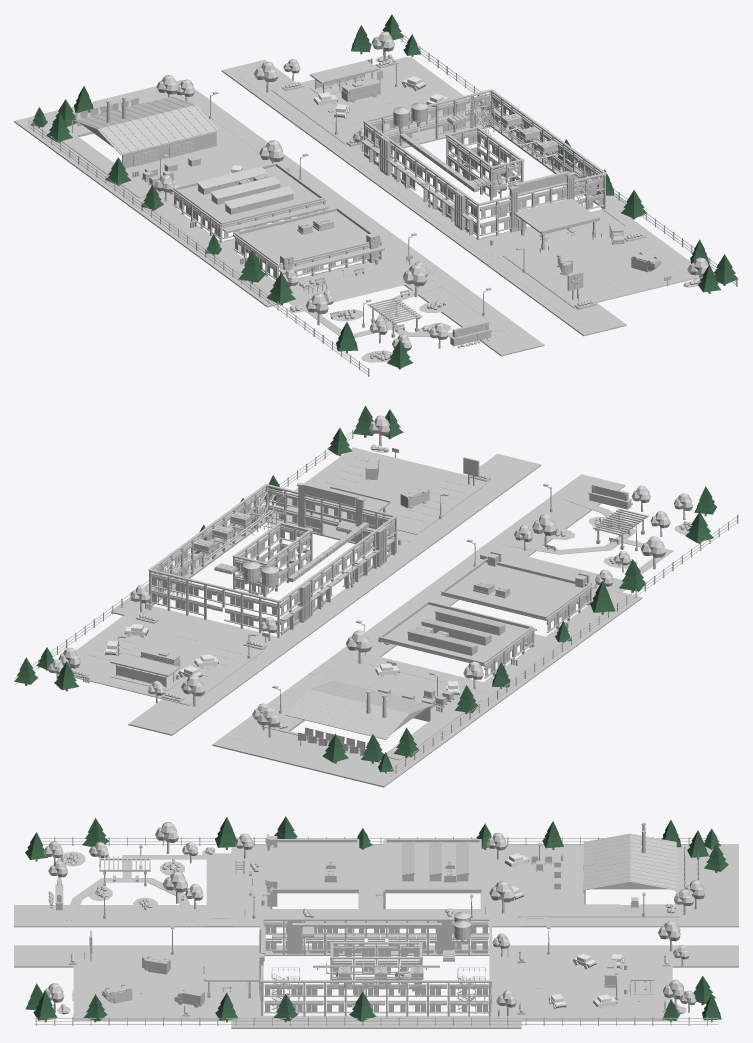
Rendered from Hospital Campus.fbx.
The picture shows the model from 3 angles, top to bottom: view 1: azimuth 30°, elevation 25°; view 2: azimuth 150°, elevation 25°; view 3: azimuth 270°, elevation 25°; orthographic projection.
Parts seen in each view (by area): view 1: Campus asphalt_1_1_solid, Campus asphalt_1_8_solid, Laundry sheet roof_-2_8_solid, Roof membrane_-2_4_solid, Campus asphalt_-2_7_solid, West campus signs_-2_5_solid, Ward facade_1_5_solid, Roof membrane_-2_5_solid, Campus sidewalks_0_5_solid, Emergency canopy_1_3_solid, Campus sidewalks_-1_5_solid, Campus sidewalks_-3_5_solid (+46 smaller); view 2: Campus asphalt_1_8_solid, Campus asphalt_1_1_solid, Laundry sheet roof_-2_8_solid, Roof membrane_-2_4_solid, Roof membrane_-2_5_solid, Ward facade_1_6_solid, Campus sidewalks_-1_5_solid, Campus sidewalks_0_5_solid, Cut district turf_-3_9_solid, West campus signs_-2_5_solid, Ward facade_1_5_solid, Cut district turf_-2_9_solid (+41 smaller); view 3: Campus asphalt_1_8_solid, Campus asphalt_1_1_solid, Laundry sheet roof_-2_8_solid, Roof membrane_-2_4_solid, Roof membrane_-2_5_solid, Campus sidewalks_-1_5_solid, Campus asphalt_-2_7_solid, Ward facade_2_4_solid, Campus asphalt_2_4_solid, Perimeter_2_5_solid, Campus asphalt_-2_2_solid, Ward facade_2_5_solid (+73 smaller).
Boxes of the visible parts, x1=… form: Campus asphalt_1_1_solid: x1=505, y1=224, x2=699, y2=306; Campus asphalt_1_8_solid: x1=273, y1=57, x2=478, y2=142; Laundry sheet roof_-2_8_solid: x1=74, y1=96, x2=219, y2=154; Roof membrane_-2_4_solid: x1=240, y1=211, x2=368, y2=263; Campus asphalt_-2_7_solid: x1=125, y1=146, x2=247, y2=192; West campus signs_-2_5_solid: x1=211, y1=176, x2=294, y2=214; Ward facade_1_5_solid: x1=445, y1=126, x2=524, y2=180; Roof membrane_-2_5_solid: x1=179, y1=166, x2=321, y2=226; Campus sidewalks_0_5_solid: x1=336, y1=145, x2=491, y2=253; Emergency canopy_1_3_solid: x1=514, y1=199, x2=597, y2=235; Campus sidewalks_-1_5_solid: x1=277, y1=160, x2=428, y2=266; Campus sidewalks_-3_5_solid: x1=155, y1=200, x2=275, y2=294; Campus asphalt_1_8_solid: x1=71, y1=617, x2=262, y2=704; Campus asphalt_1_1_solid: x1=287, y1=449, x2=487, y2=533; Laundry sheet roof_-2_8_solid: x1=285, y1=680, x2=433, y2=739; Roof membrane_-2_4_solid: x1=440, y1=562, x2=584, y2=620; Roof membrane_-2_5_solid: x1=378, y1=604, x2=527, y2=666; Ward facade_1_6_solid: x1=149, y1=569, x2=279, y2=629; Campus sidewalks_-1_5_solid: x1=329, y1=557, x2=482, y2=666; Campus sidewalks_0_5_solid: x1=265, y1=542, x2=422, y2=651; Cut district turf_-3_9_solid: x1=320, y1=749, x2=420, y2=787; West campus signs_-2_5_solid: x1=421, y1=608, x2=505, y2=645; Ward facade_1_5_solid: x1=232, y1=521, x2=312, y2=599; Cut district turf_-2_9_solid: x1=256, y1=733, x2=349, y2=771; Campus asphalt_1_8_solid: x1=526, y1=953, x2=670, y2=1017; Campus asphalt_1_1_solid: x1=75, y1=955, x2=215, y2=1017; Laundry sheet roof_-2_8_solid: x1=583, y1=833, x2=676, y2=890; Roof membrane_-2_4_solid: x1=272, y1=842, x2=359, y2=893; Roof membrane_-2_5_solid: x1=386, y1=842, x2=481, y2=893; Campus sidewalks_-1_5_solid: x1=233, y1=909, x2=521, y2=923; Campus asphalt_-2_7_solid: x1=519, y1=858, x2=584, y2=904; Ward facade_2_4_solid: x1=262, y1=980, x2=490, y2=1016; Campus asphalt_2_4_solid: x1=73, y1=1015, x2=669, y2=1020; Perimeter_2_5_solid: x1=34, y1=1017, x2=718, y2=1025; Campus asphalt_-2_2_solid: x1=206, y1=853, x2=233, y2=926; Ward facade_2_5_solid: x1=367, y1=983, x2=449, y2=1016.
Bounding box in the file's own units: 9644 × 1388 × 16000.
